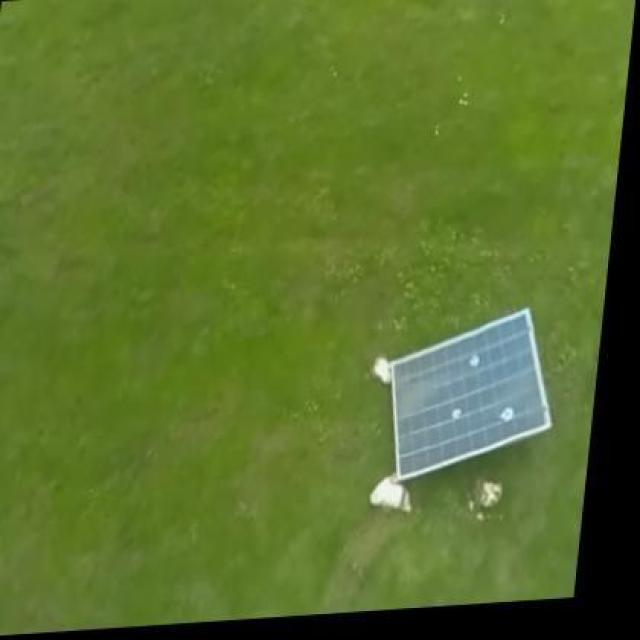soiled: (384, 306, 558, 478)
